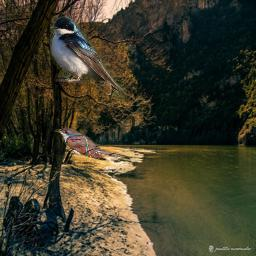Cuckoo: (54, 126, 132, 164)
Swallow: (50, 16, 127, 103)
